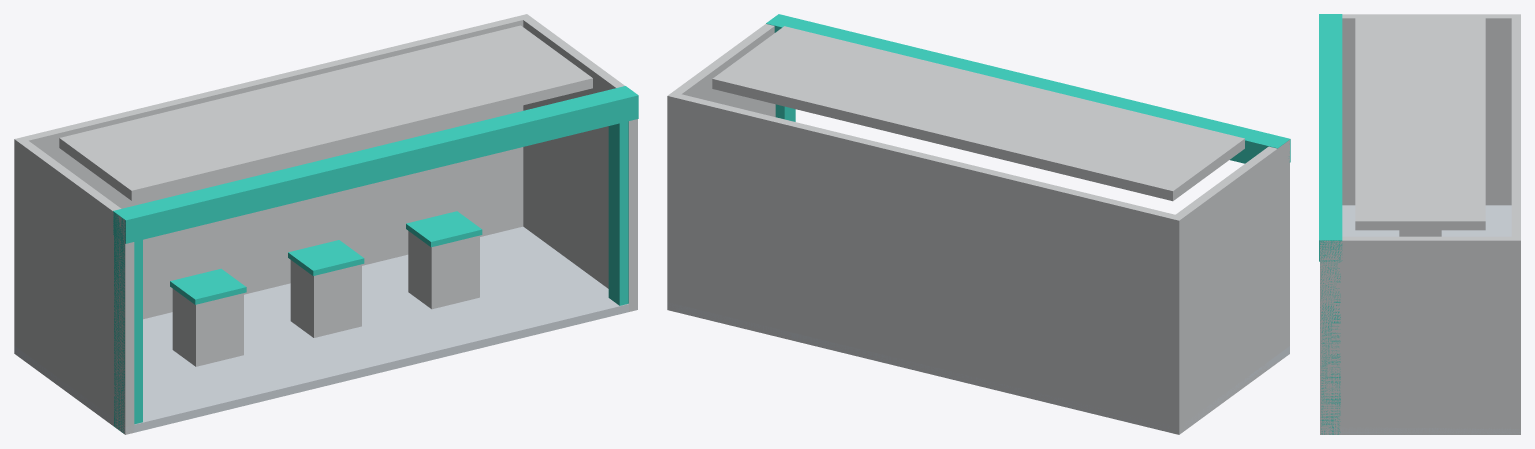
3 renders of one model, left to right at view 1: azimuth 30°, elevation 25°; view 2: azimuth 150°, elevation 25°; view 3: azimuth 270°, elevation 25°, orthographic. The views are drawn at different scales.
Visible parts, largest first — view 1: Exhibition Booth Concept; view 2: Exhibition Booth Concept; view 3: Exhibition Booth Concept.
Boxes of the visible parts, x1=… form: Exhibition Booth Concept: x1=14, y1=14, x2=638, y2=434; Exhibition Booth Concept: x1=667, y1=14, x2=1290, y2=434; Exhibition Booth Concept: x1=1319, y1=14, x2=1520, y2=434.
Bounding box in the file's own units: 8 × 3.34 × 3.01.
